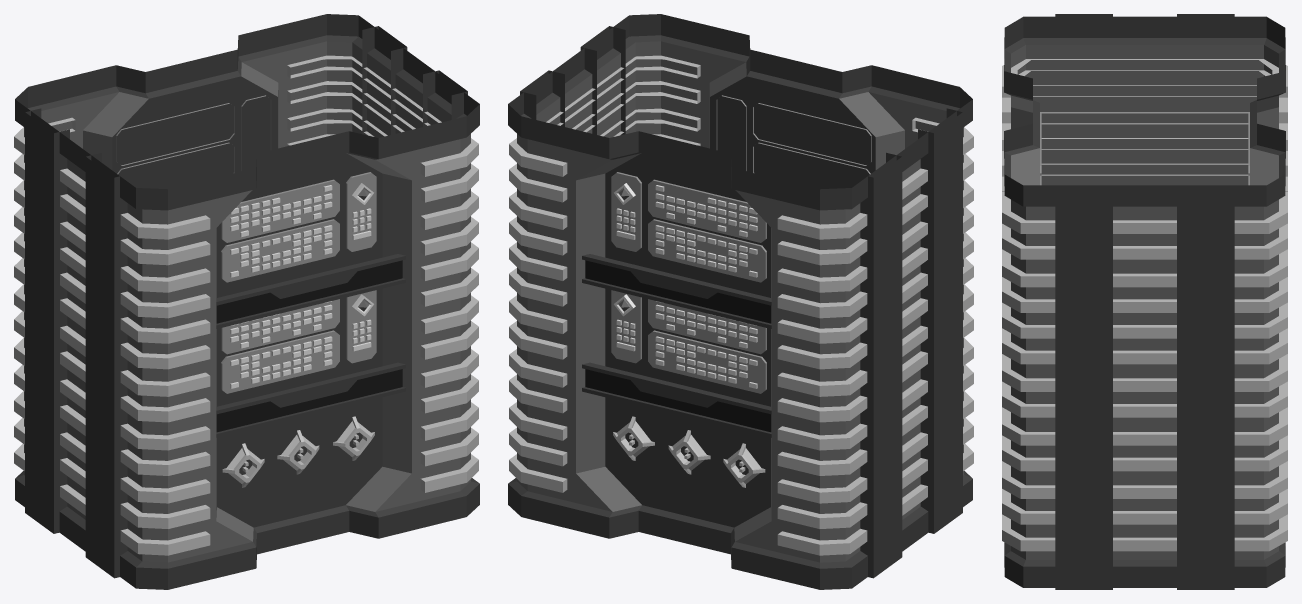
The model's file is large_console_A.FBX.
3 views of the same model, side by side, from view 1: azimuth 30°, elevation 25°; view 2: azimuth 150°, elevation 25°; view 3: azimuth 270°, elevation 25° (orthographic).
Parts seen in each view (by area): view 1: large_console_A, large_console_A_glow; view 2: large_console_A, large_console_A_glow; view 3: large_console_A.
Boxes of the visible parts, x1,y1,x2,y2 form: large_console_A: [14, 14, 479, 589]; large_console_A_glow: [230, 185, 369, 388]; large_console_A: [508, 14, 973, 589]; large_console_A_glow: [618, 185, 757, 383]; large_console_A: [1002, 14, 1287, 589].
Bounding box in the file's own units: 156 × 169 × 109.
